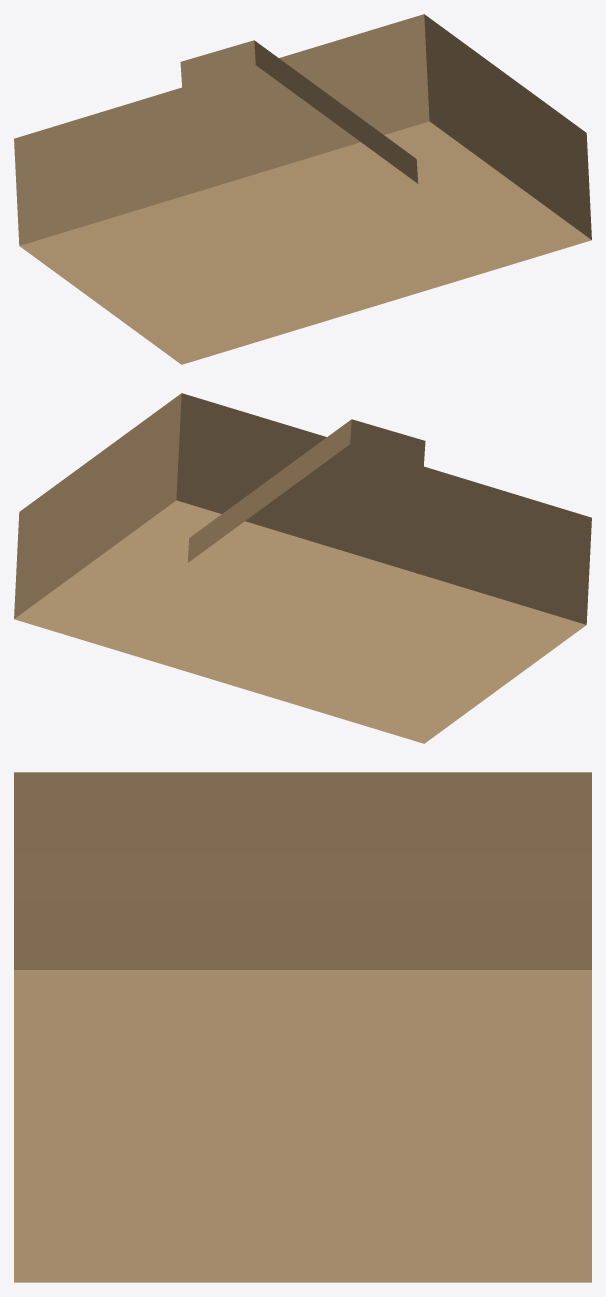
3 views of the same model, one above another, from view 1: azimuth 30°, elevation 25°; view 2: azimuth 150°, elevation 25°; view 3: azimuth 270°, elevation 25° (orthographic). The views are drawn at different scales.
Parts seen in each view (by area): view 1: 0_0_3_2_0_1_2_1_1; view 2: 0_0_3_2_0_1_2_1_1; view 3: 0_0_3_2_0_1_2_1_1.
Part boxes in pixels (box(x1,y1,x2,y2)): 0_0_3_2_0_1_2_1_1: box(14, 14, 591, 364); 0_0_3_2_0_1_2_1_1: box(14, 393, 591, 743); 0_0_3_2_0_1_2_1_1: box(14, 772, 591, 1282).
Bounding box in the file's own units: 35.45 × 12.1 × 24.
